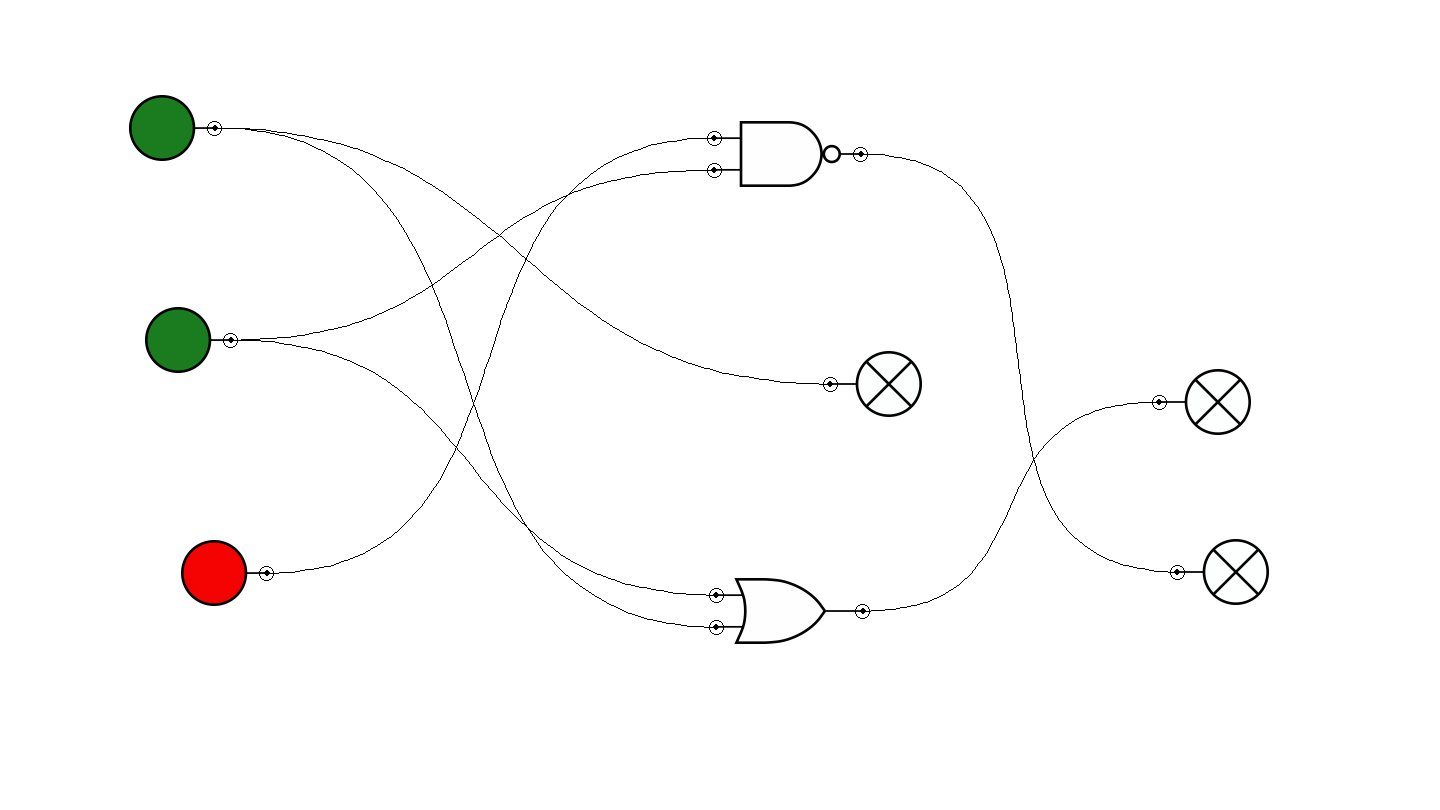bulb: (823, 351, 922, 417), (1170, 539, 1269, 605), (1152, 369, 1251, 435)
nand: (707, 121, 868, 187)
or: (709, 578, 870, 644)
switch_False: (181, 540, 274, 606)
switch_True: (145, 307, 238, 373), (129, 95, 222, 161)
